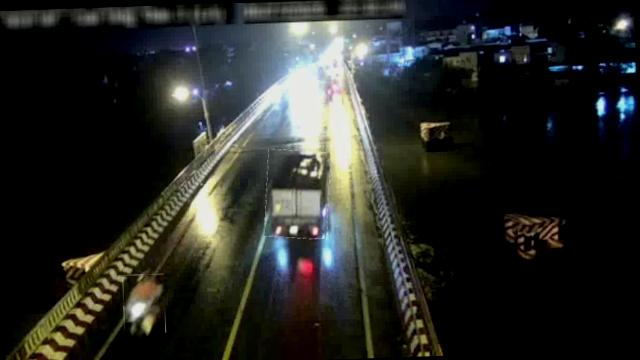Bike: (122, 274, 166, 336)
Truck: (263, 150, 332, 240)
